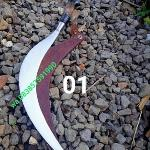Celurit: (13, 6, 92, 148)
